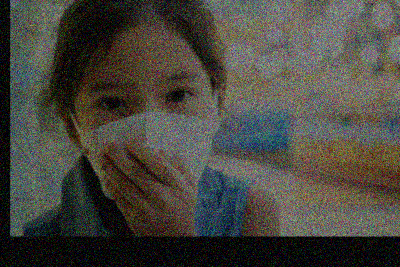with_mask: (76, 68, 219, 204)
